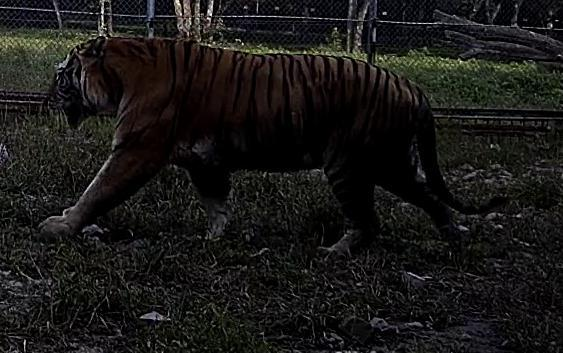tiger: (40, 36, 490, 253)
